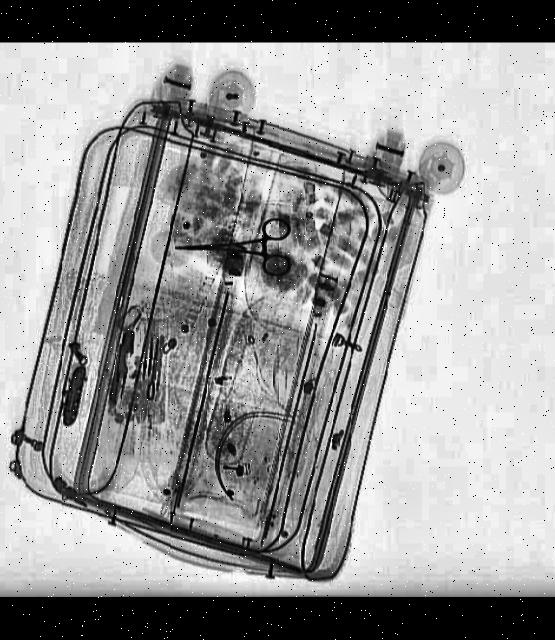Scissors: (171, 220, 288, 280)
